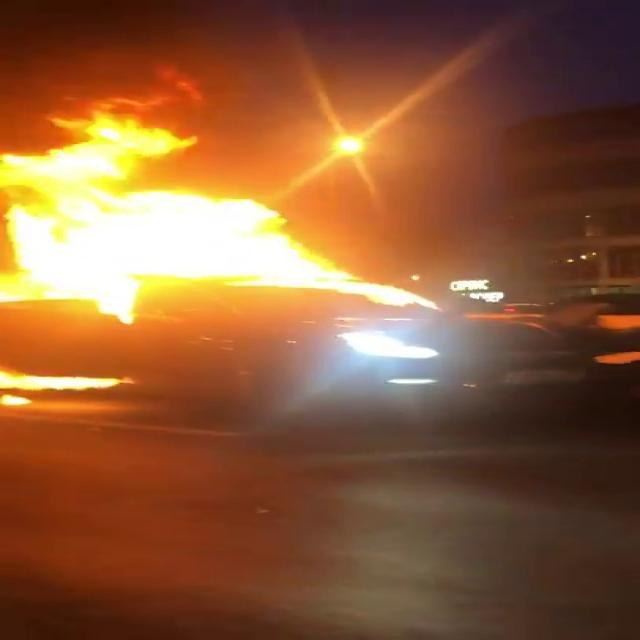Fire: (0, 95, 375, 322)
